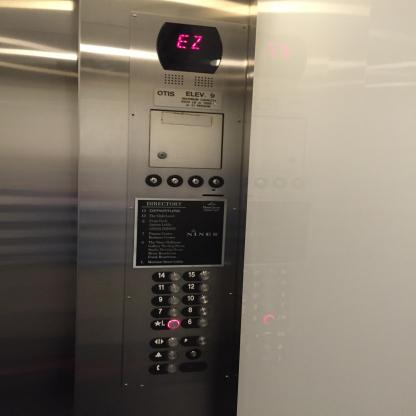10: (181, 293, 211, 305)
11: (150, 282, 181, 295)
12: (181, 281, 211, 293)
14: (151, 271, 182, 282)
15: (182, 270, 211, 281)
6: (180, 316, 210, 329)
7: (150, 306, 180, 318)
8: (181, 306, 209, 316)
9: (150, 295, 181, 306)
alarm: (148, 350, 180, 361)
blur: (180, 335, 209, 347)
call: (148, 362, 178, 375)
keyhole: (166, 173, 184, 188), (186, 174, 205, 188), (144, 173, 162, 187), (207, 174, 225, 188), (185, 348, 202, 360), (156, 150, 168, 160)
led: (154, 20, 225, 76)
open: (148, 336, 180, 348)
sL: (150, 318, 180, 330)
